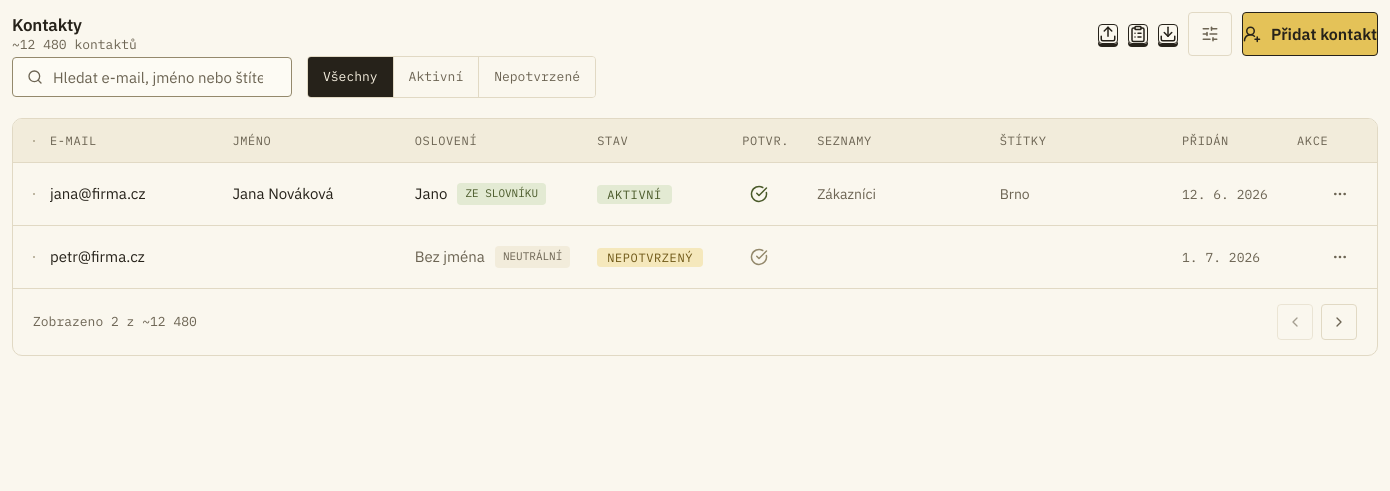
Test: ContactsTable › rozšíření výběru na celý filtr se od výběru na stránce liší slovy
Click the 1st checkbox named "Vybrat kontakt": (34,194) [33,193,35,195]
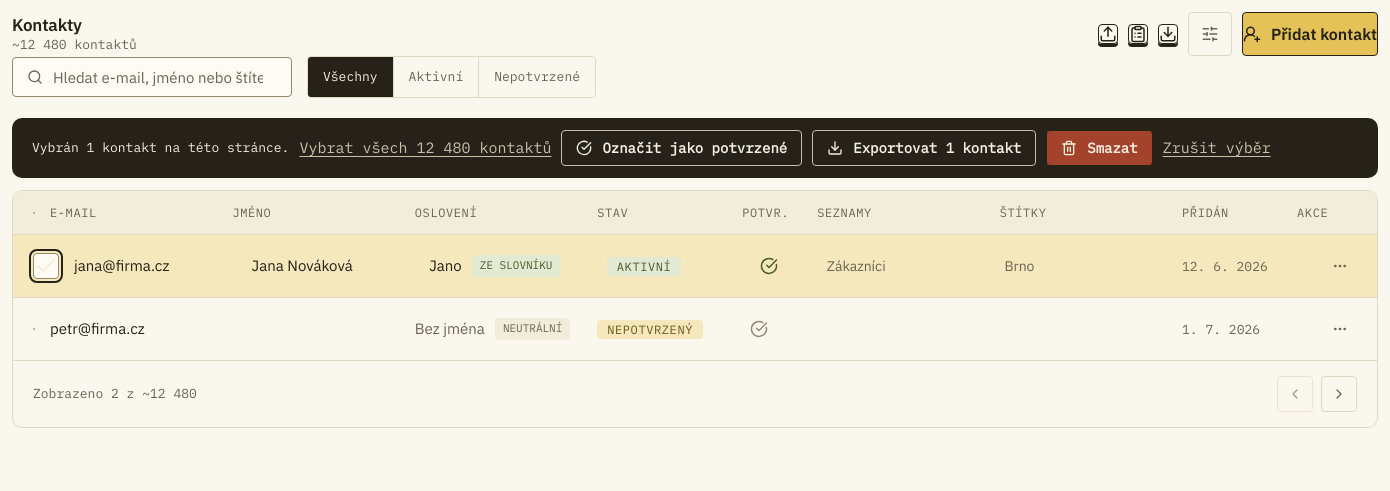
Expected: the element with test id "selection-bar" shows "Vybrán 1 kontakt na této stránce", [32,139,289,156]
Click the button "Vybrat všech 12 480 kontaktů": (425,148) [299,136,551,160]
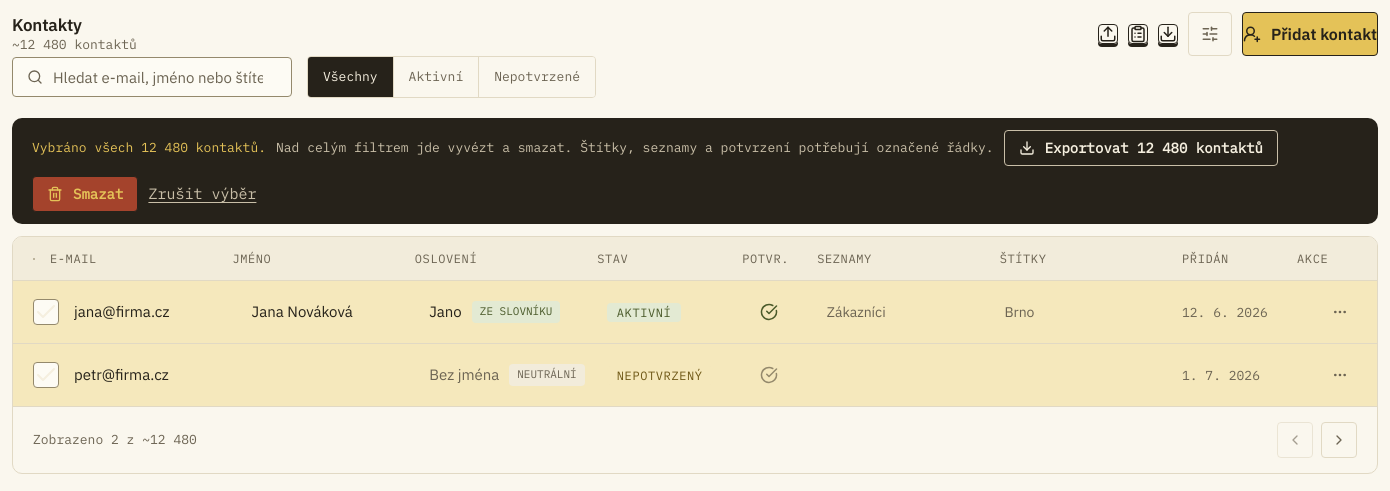
Expected: the element with test id "selection-bar" does not show "odpovídajících filtru", [12,118,1378,224]
Expected: the button "Zrušit výběr" is shown, [148,182,256,206]
Expected: the element with test id "selection-bar" shows "Vybráno všech 12 480 kontaktů", [32,139,266,156]
